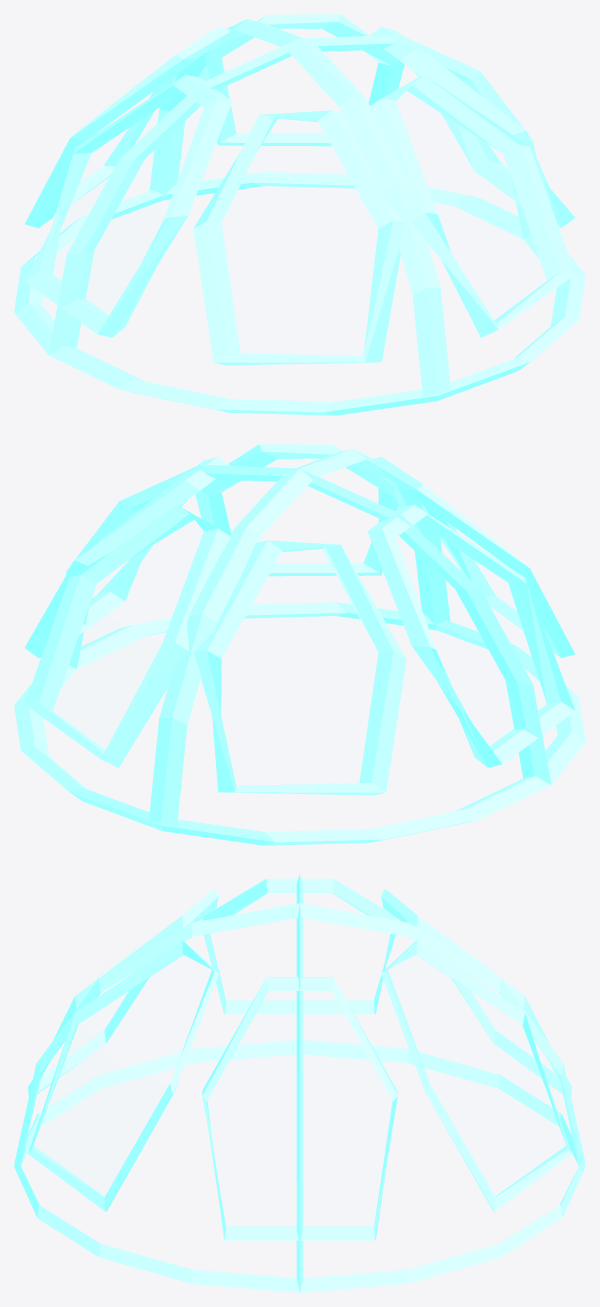
The model's file is shield-medium.glb.
The picture shows the model from 3 angles, top to bottom: view 1: azimuth 30°, elevation 25°; view 2: azimuth 150°, elevation 25°; view 3: azimuth 270°, elevation 25°; orthographic projection. The views are drawn at different scales.
Visible parts, largest first — view 1: Continuous solid frames.001; view 2: Continuous solid frames.001; view 3: Continuous solid frames.001.
Boxes of the visible parts, x1=… form: Continuous solid frames.001: x1=14, y1=14, x2=585, y2=415; Continuous solid frames.001: x1=14, y1=444, x2=585, y2=845; Continuous solid frames.001: x1=14, y1=875, x2=585, y2=1292.
Size of the model in its own units: 2.12 by 1.06 by 2.02.
